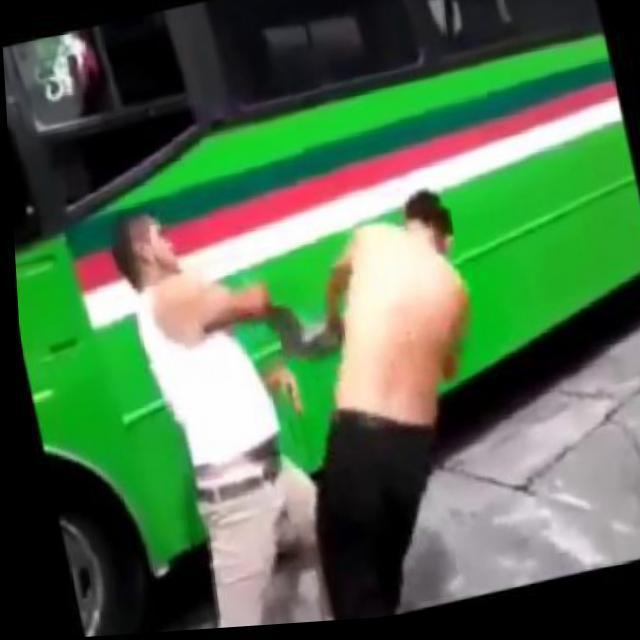fight: (89, 134, 532, 636)
